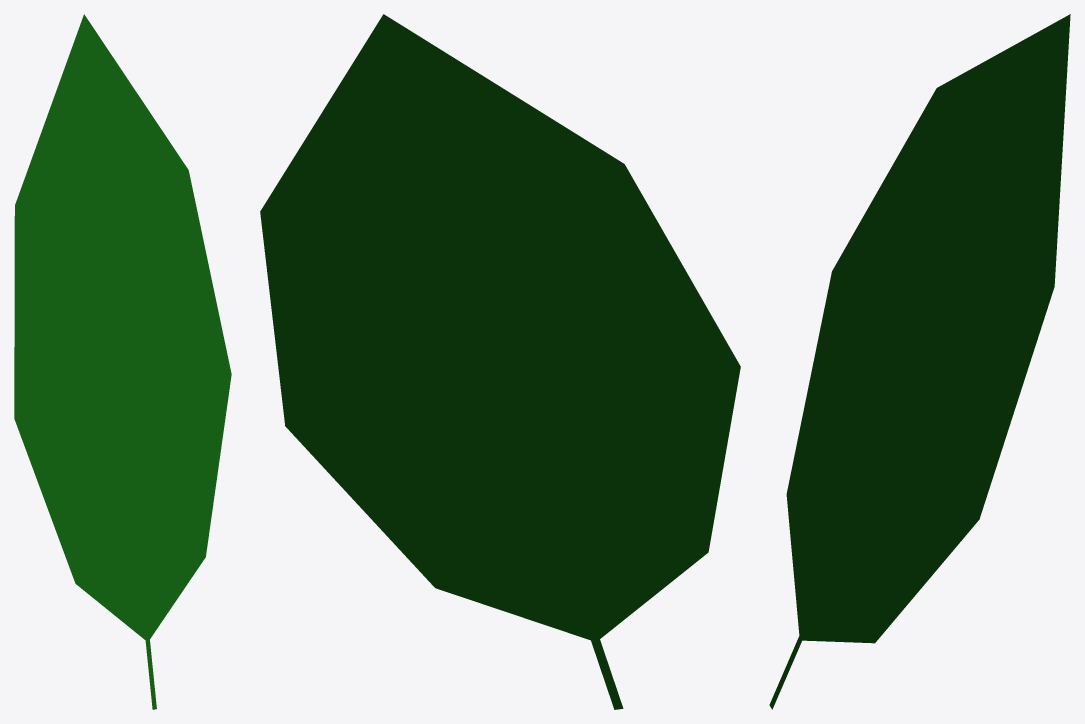
File: Leaves.087.obj
3 views of the same model, side by side, from view 1: azimuth 30°, elevation 25°; view 2: azimuth 150°, elevation 25°; view 3: azimuth 270°, elevation 25° (orthographic). The views are drawn at different scales.
Parts seen in each view (by area): view 1: Leaves.087_leaves.087; view 2: Leaves.087_leaves.087; view 3: Leaves.087_leaves.087.
Boxes of the visible parts, <box> form: Leaves.087_leaves.087: <box>14,14,231,709</box>; Leaves.087_leaves.087: <box>260,14,740,709</box>; Leaves.087_leaves.087: <box>769,14,1070,709</box>.
Size of the model in its own units: 0.0686 by 0.1401 by 0.0527.
